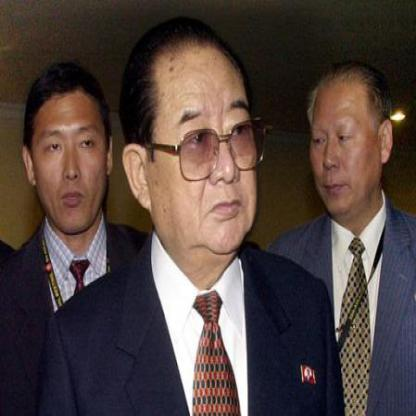face: (145, 29, 268, 263), (33, 66, 110, 235), (306, 69, 383, 219)
